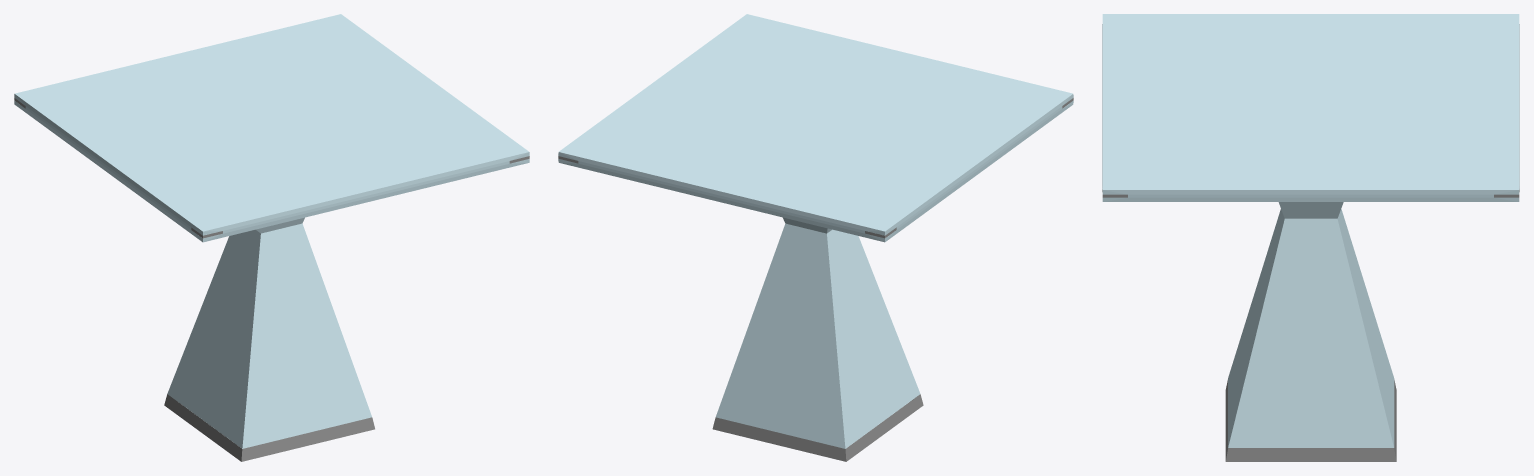
The picture shows the model from 3 angles, left to right: view 1: azimuth 30°, elevation 25°; view 2: azimuth 150°, elevation 25°; view 3: azimuth 270°, elevation 25°; orthographic projection. The views are drawn at different scales.
Visible parts, largest first — view 1: table1; view 2: table1; view 3: table1.
Boxes of the visible parts, x1,y1,x2,y2 form: table1: (14, 14, 529, 461); table1: (558, 14, 1073, 461); table1: (1102, 14, 1519, 461).
Bounding box in the file's own units: 90 × 77.35 × 90.
